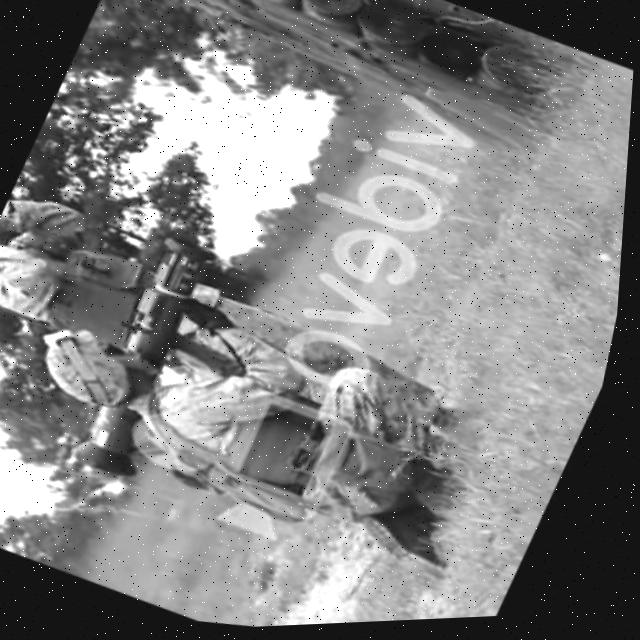rocket: (71, 231, 234, 491)
